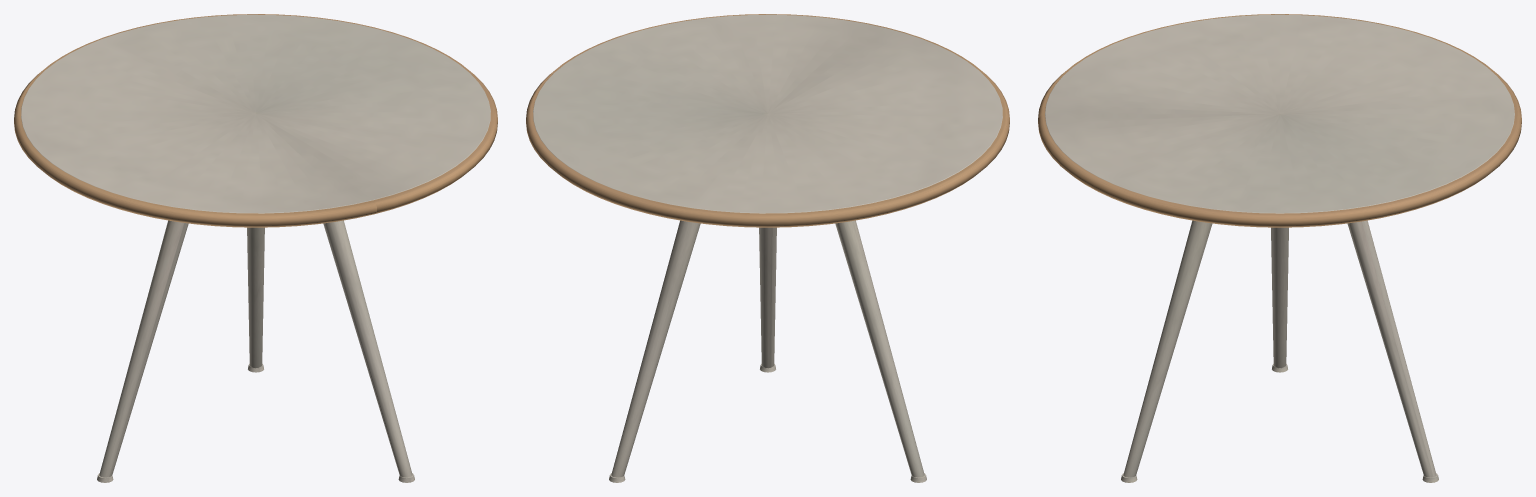
File: hp-a213-dme52-b00ddf.glb
3 views of the same model, side by side, from view 1: azimuth 30°, elevation 25°; view 2: azimuth 150°, elevation 25°; view 3: azimuth 270°, elevation 25° (orthographic).
Visible parts, largest first — view 1: cream (×4), primary; view 2: cream (×4), primary; view 3: cream (×4), primary.
Boxes of the visible parts, <box> form: cream (×4): <box>21,14,490,477</box>; primary: <box>14,14,497,227</box>; cream (×4): <box>533,14,1002,477</box>; primary: <box>526,14,1009,227</box>; cream (×4): <box>1045,14,1514,477</box>; primary: <box>1038,14,1521,227</box>.
Size of the model in its own units: 1 by 0.75 by 1.
Materials: 2 (2 with a texture image).
